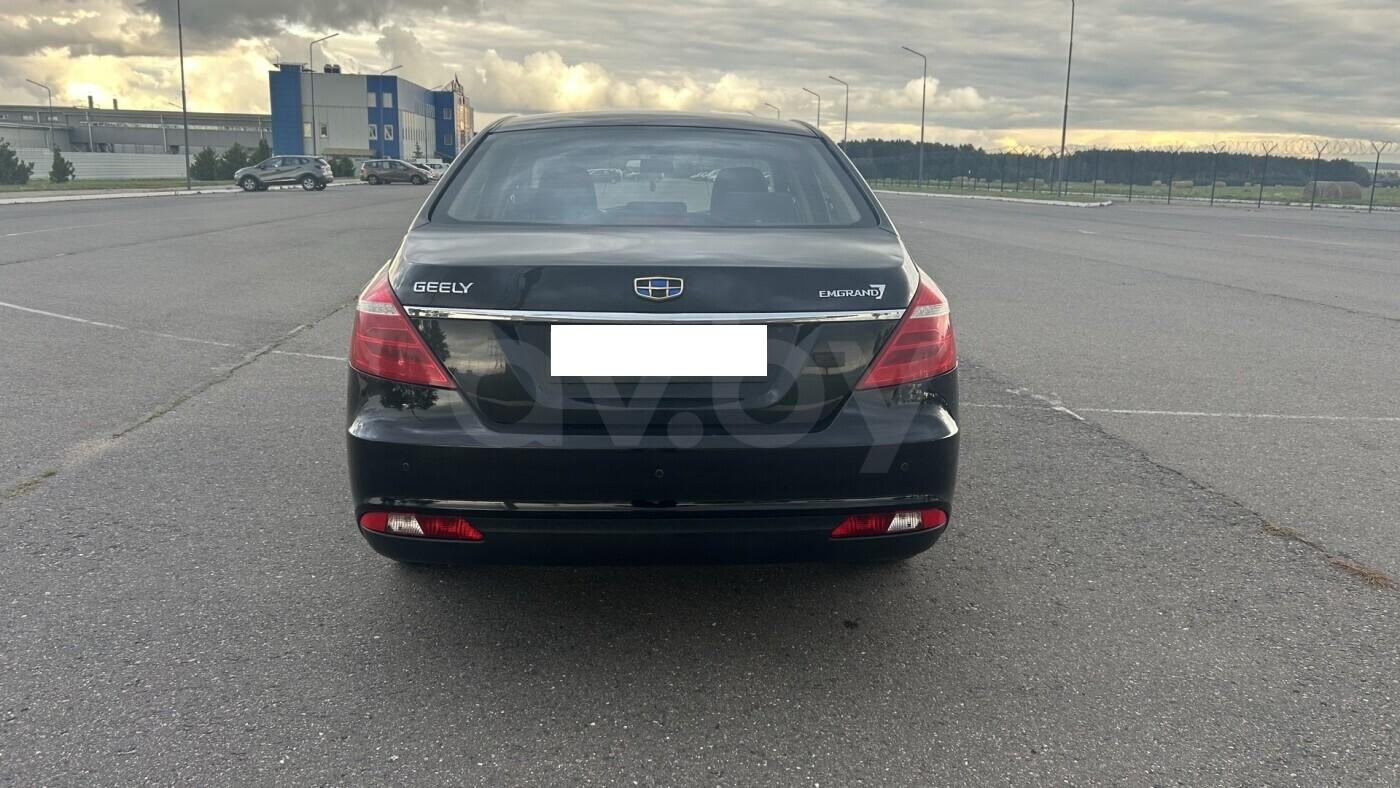Emgrand_2019-2021: (347, 113, 960, 560)
